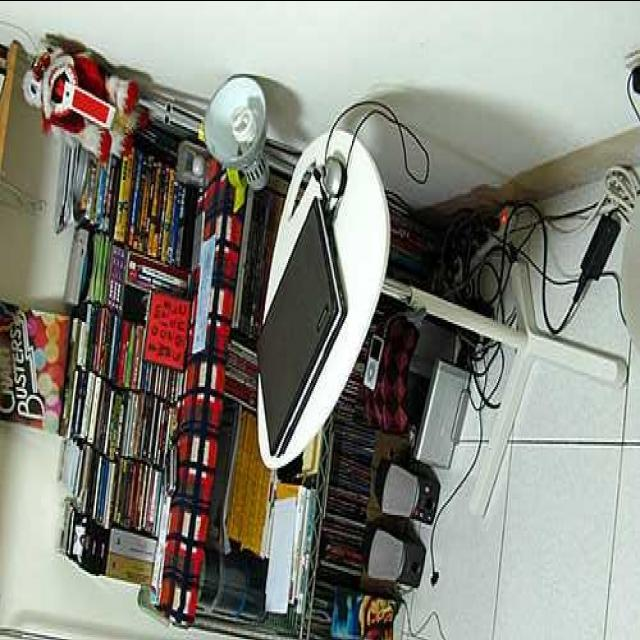laptop: (242, 190, 354, 448)
